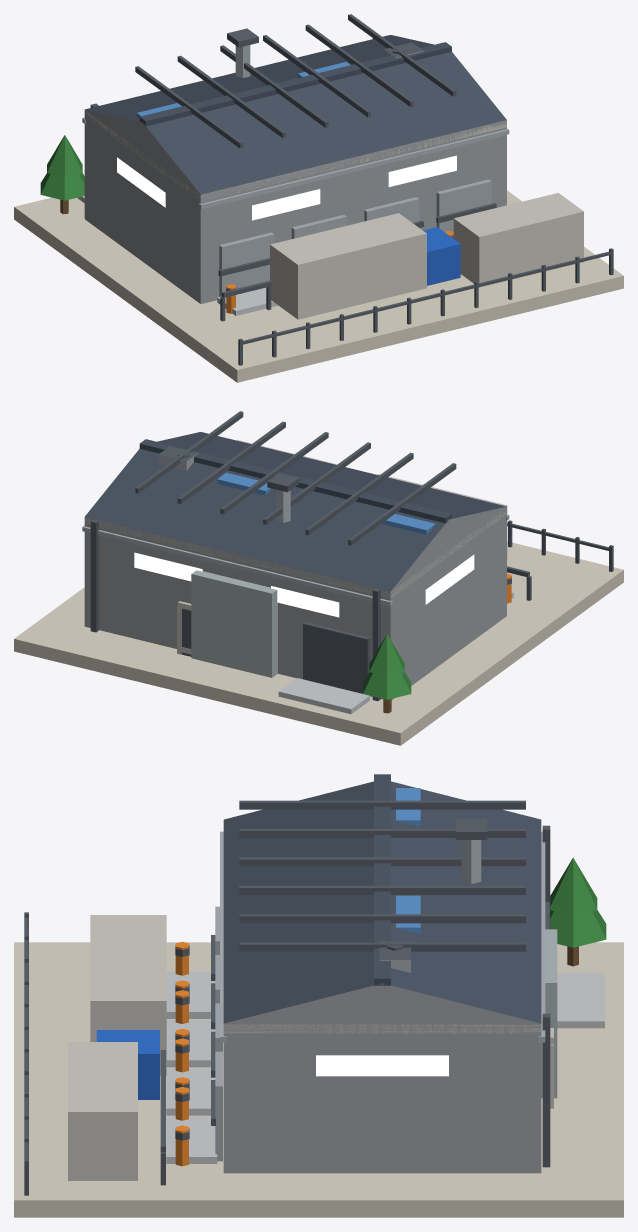
3 views of the same model, one above another, from view 1: azimuth 30°, elevation 25°; view 2: azimuth 150°, elevation 25°; view 3: azimuth 270°, elevation 25° (orthographic). The views are drawn at different scales.
Visible parts, largest first — view 1: b36; view 2: b36; view 3: b36.
Part boxes in pixels (x1,y1,x2,y2): b36: [14, 14, 623, 382]; b36: [14, 411, 623, 745]; b36: [14, 774, 623, 1217].
Size of the model in its own units: 0.96 by 0.434 by 0.96.
